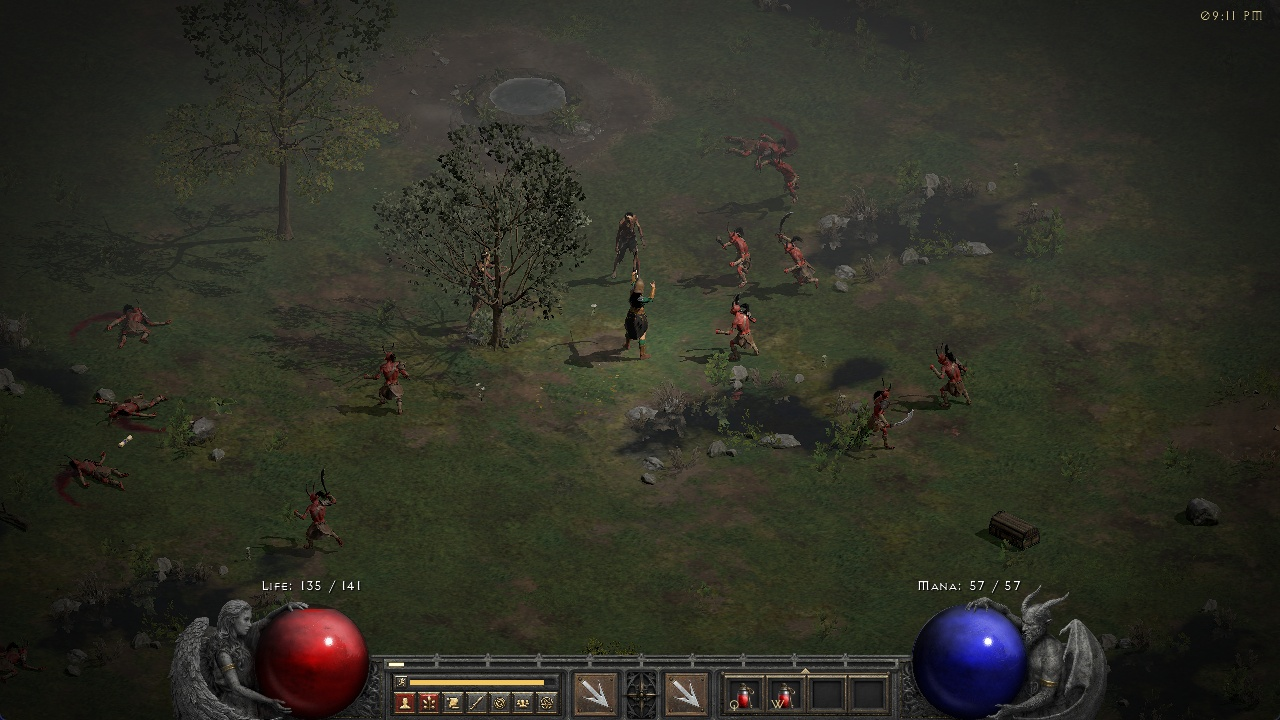fallen: (358, 341, 431, 416), (851, 382, 923, 458), (770, 209, 833, 295), (707, 292, 775, 366), (295, 468, 349, 557), (712, 221, 767, 286), (925, 344, 981, 406)
